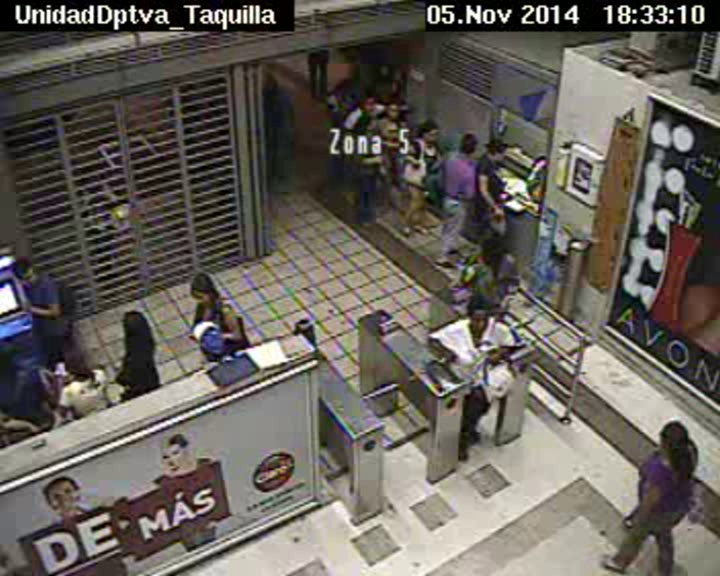person: (658, 421, 691, 457), (463, 302, 492, 334), (479, 239, 507, 268), (190, 273, 217, 303), (12, 258, 39, 285), (60, 346, 87, 372), (122, 310, 149, 335), (1, 343, 23, 372), (488, 138, 508, 163), (420, 119, 439, 142), (359, 95, 379, 116), (459, 132, 478, 154), (358, 114, 375, 134), (387, 103, 403, 119), (340, 79, 354, 94), (265, 76, 278, 90)
